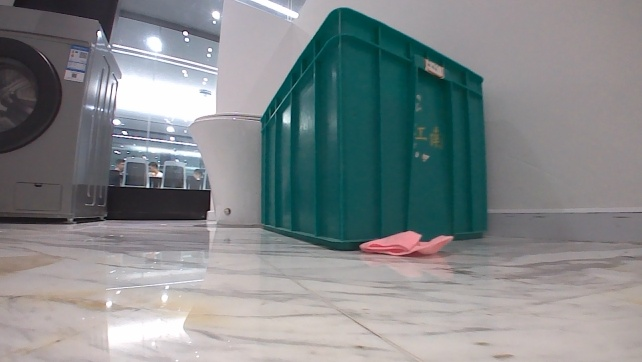socks: (359, 227, 455, 258)
toilet: (185, 110, 267, 227)
washing_machine: (0, 0, 126, 225)
